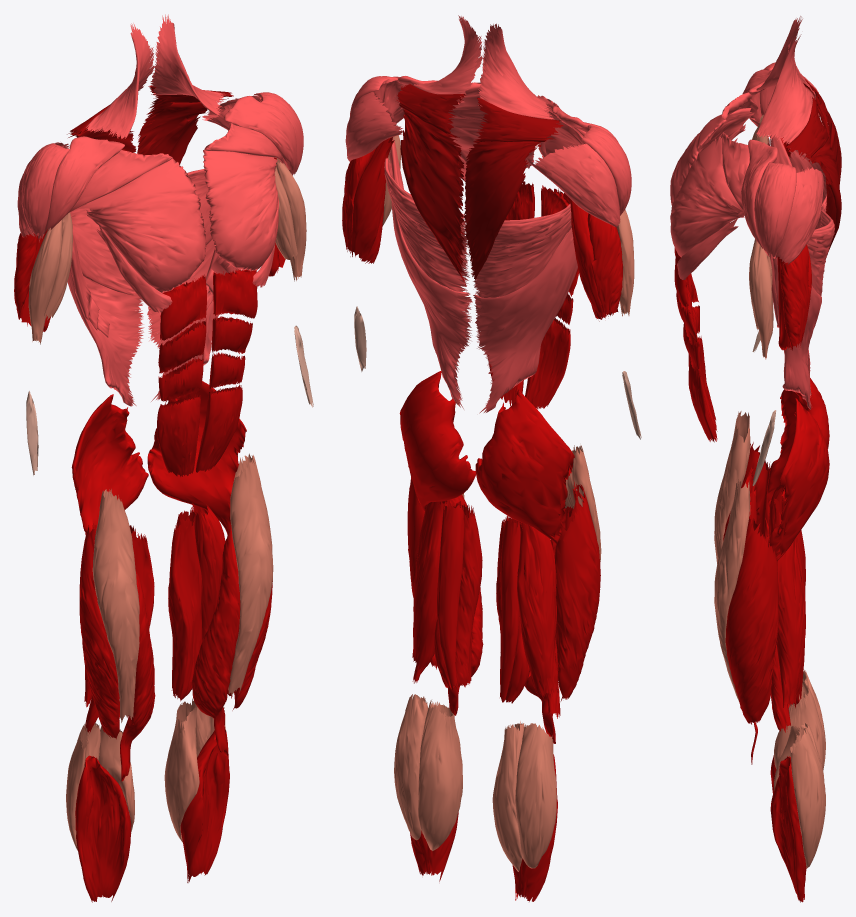
The model's file is muscles.glb.
3 views of the same model, side by side, from view 1: azimuth 30°, elevation 25°; view 2: azimuth 150°, elevation 25°; view 3: azimuth 270°, elevation 25° (orthographic). The views are drawn at different scales.
Visible parts, largest first — view 1: MU_pecs_R_2, MU_lats_R_1, MU_abs_R_1, MU_pecs_L_5, MU_quads_R_1, MU_abs_L_2, MU_quads_L_5, MU_calves_R_5, MU_glutes_R_1, MU_quads_L_7, MU_hams_L_7, MU_glutes_L_2 (+28 smaller); view 2: MU_lats_R_1, MU_glutes_R_1, MU_lats_L_2, MU_quads_R_2, MU_traps_L_5, MU_glutes_L_2, MU_traps_R_2, MU_hams_R_1, MU_calves_L_4, MU_calves_R_1, MU_delts_R_3, MU_hams_L_3 (+27 smaller); view 3: MU_quads_L_6, MU_pecs_L_5, MU_glutes_L_2, MU_hams_L_3, MU_lats_L_2, MU_calves_L_3, MU_quads_L_5, MU_traps_L_4, MU_delts_L_4, MU_calves_L_6, MU_delts_L_6, MU_abs_L_2 (+23 smaller).
Boxes of the visible parts, x1,y1,x2,y2 form: MU_pecs_R_2: [79, 158, 206, 293]; MU_lats_R_1: [67, 204, 144, 406]; MU_abs_R_1: [157, 274, 206, 476]; MU_pecs_L_5: [203, 150, 278, 271]; MU_quads_R_1: [92, 489, 139, 722]; MU_abs_L_2: [196, 269, 257, 472]; MU_quads_L_5: [228, 453, 273, 695]; MU_calves_R_5: [75, 755, 131, 902]; MU_glutes_R_1: [71, 394, 148, 535]; MU_quads_L_7: [192, 525, 240, 755]; MU_hams_L_7: [168, 520, 202, 701]; MU_glutes_L_2: [147, 381, 246, 534]; MU_lats_R_1: [468, 203, 577, 413]; MU_glutes_R_1: [475, 389, 574, 544]; MU_lats_L_2: [384, 138, 472, 408]; MU_quads_R_2: [554, 480, 600, 701]; MU_traps_L_5: [400, 109, 466, 286]; MU_glutes_L_2: [399, 371, 475, 510]; MU_traps_R_2: [464, 141, 541, 287]; MU_hams_R_1: [517, 522, 558, 699]; MU_calves_L_4: [418, 700, 462, 850]; MU_calves_R_1: [515, 723, 556, 868]; MU_delts_R_3: [530, 143, 620, 227]; MU_hams_L_3: [412, 500, 449, 670]; MU_quads_L_6: [725, 512, 778, 724]; MU_pecs_L_5: [670, 136, 744, 257]; MU_glutes_L_2: [768, 398, 829, 560]; MU_hams_L_3: [776, 538, 805, 708]; MU_lats_L_2: [769, 210, 834, 409]; MU_calves_L_3: [790, 726, 825, 868]; MU_quads_L_5: [714, 479, 750, 701]; MU_traps_L_4: [756, 34, 812, 144]; MU_delts_L_4: [754, 162, 796, 261]; MU_calves_L_6: [770, 756, 806, 902]; MU_delts_L_6: [773, 167, 823, 264]; MU_abs_L_2: [674, 250, 717, 442].
Size of the model in its own units: 0.474 by 1.41 by 0.2564.
